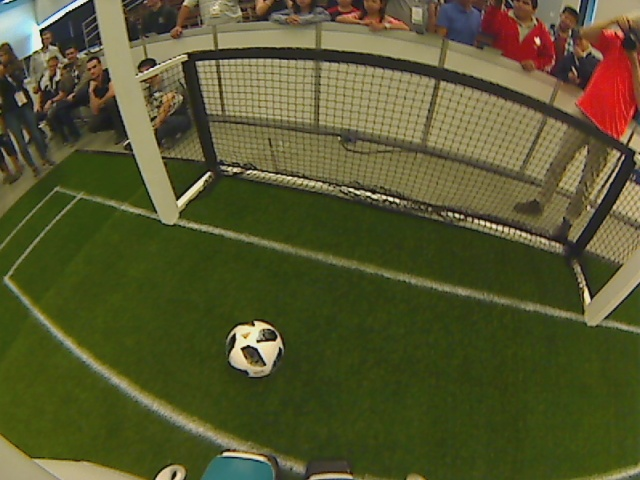ball: (219, 316, 288, 383)
goalpost: (572, 298, 616, 345), (146, 198, 188, 240)
